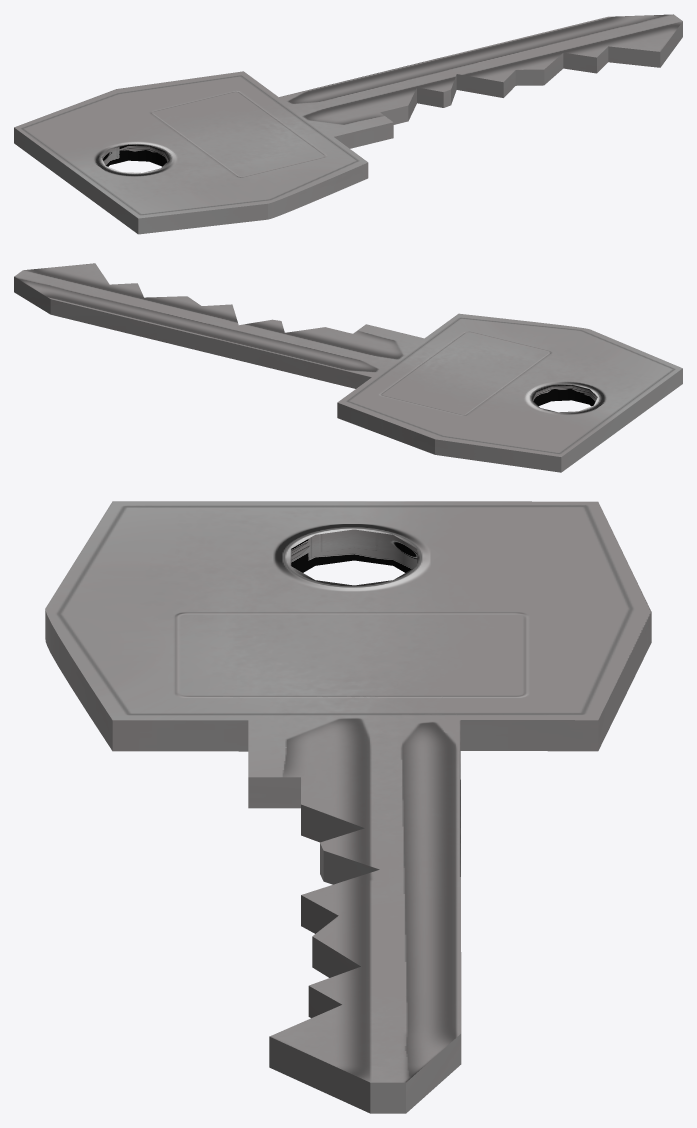
The model's file is key1.FBX.
3 renders of one model, top to bottom at view 1: azimuth 30°, elevation 25°; view 2: azimuth 150°, elevation 25°; view 3: azimuth 270°, elevation 25°, orthographic. The views are drawn at different scales.
Parts seen in each view (by area): view 1: Rectangle001; view 2: Rectangle001; view 3: Rectangle001.
Boxes of the visible parts, x1=… form: Rectangle001: x1=14, y1=14, x2=682, y2=234; Rectangle001: x1=14, y1=263, x2=682, y2=472; Rectangle001: x1=45, y1=501, x2=651, y2=1113.
Bounding box in the file's own units: 58.3 × 25.69 × 1.45.
1 material, 1 textured.
